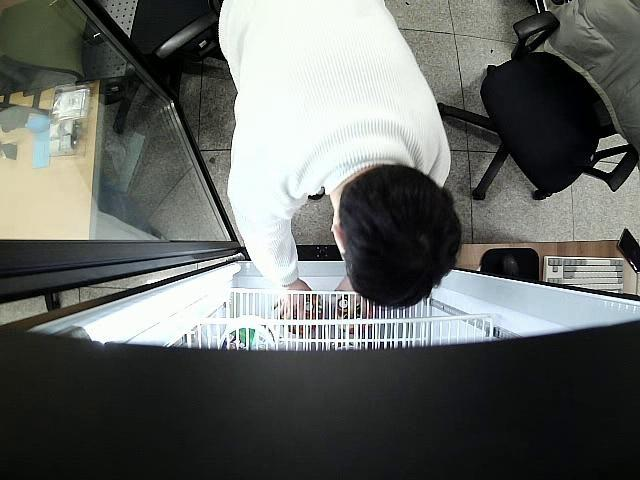05_nuguri_L: (284, 295, 324, 336), (334, 294, 374, 334)
